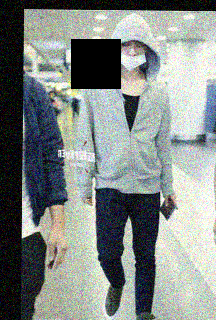mask_weared_incorrect: (115, 41, 148, 72)
